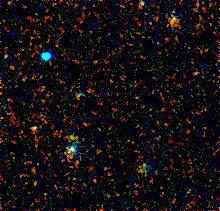star: (16, 112, 46, 142)
